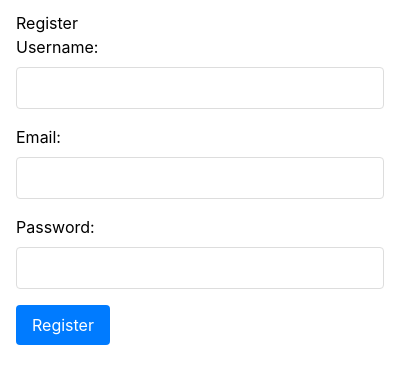
it: Register Component › shows validation error for invalid email
In the field labelled "Email:": (200, 178) [16,157,384,199], type "invalid-email"
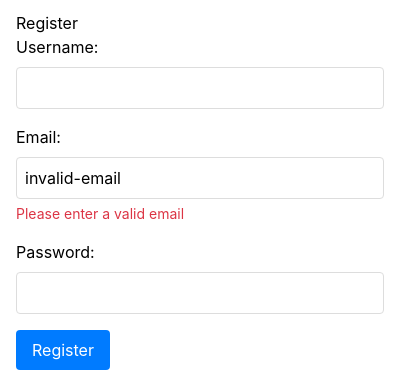
Check: the text "Please enter a valid email" is shown, box [16,205,184,222]
